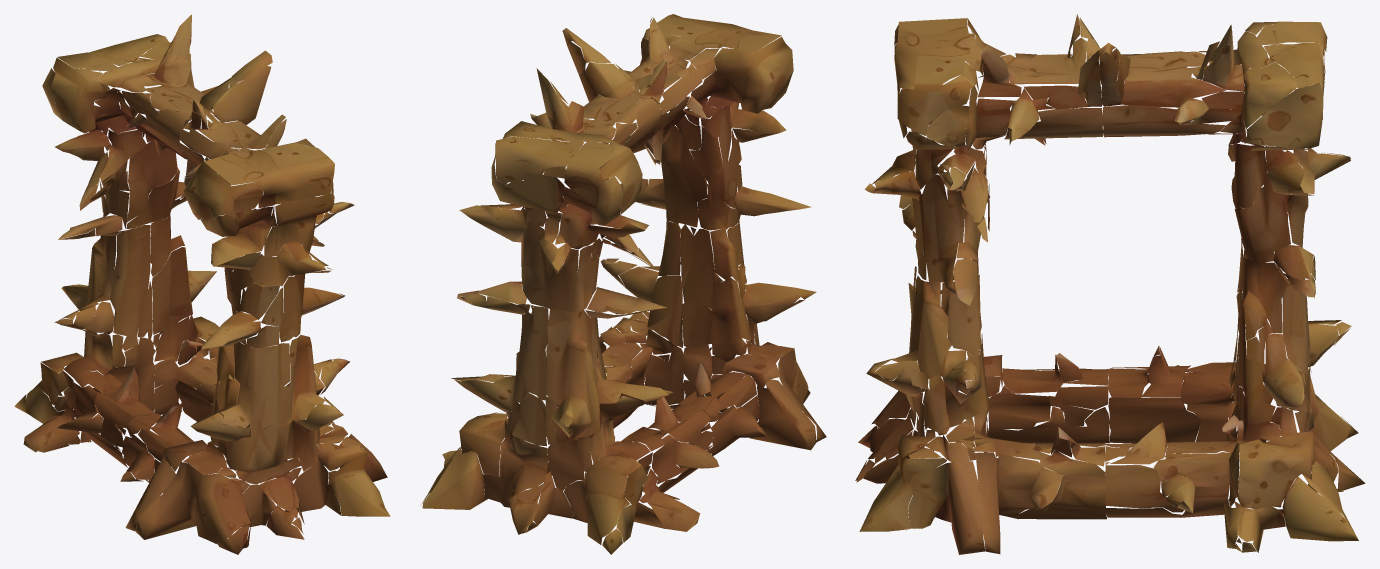
The model's file is armadilha.glb.
3 renders of one model, left to right at view 1: azimuth 30°, elevation 25°; view 2: azimuth 150°, elevation 25°; view 3: azimuth 270°, elevation 25°, orthographic. The views are drawn at different scales.
Visible parts, largest first — view 1: tripo_node_9c255212-3378-48f9-91e1-01a0901df8d3; view 2: tripo_node_9c255212-3378-48f9-91e1-01a0901df8d3; view 3: tripo_node_9c255212-3378-48f9-91e1-01a0901df8d3.
Part boxes in pixels (x1=…): tripo_node_9c255212-3378-48f9-91e1-01a0901df8d3: x1=14, y1=14, x2=390, y2=554; tripo_node_9c255212-3378-48f9-91e1-01a0901df8d3: x1=420, y1=14, x2=826, y2=554; tripo_node_9c255212-3378-48f9-91e1-01a0901df8d3: x1=855, y1=14, x2=1365, y2=554.
Bounding box in the file's own units: 0.6551 × 1 × 0.9576.
Materials: 1 (1 with a texture image).
